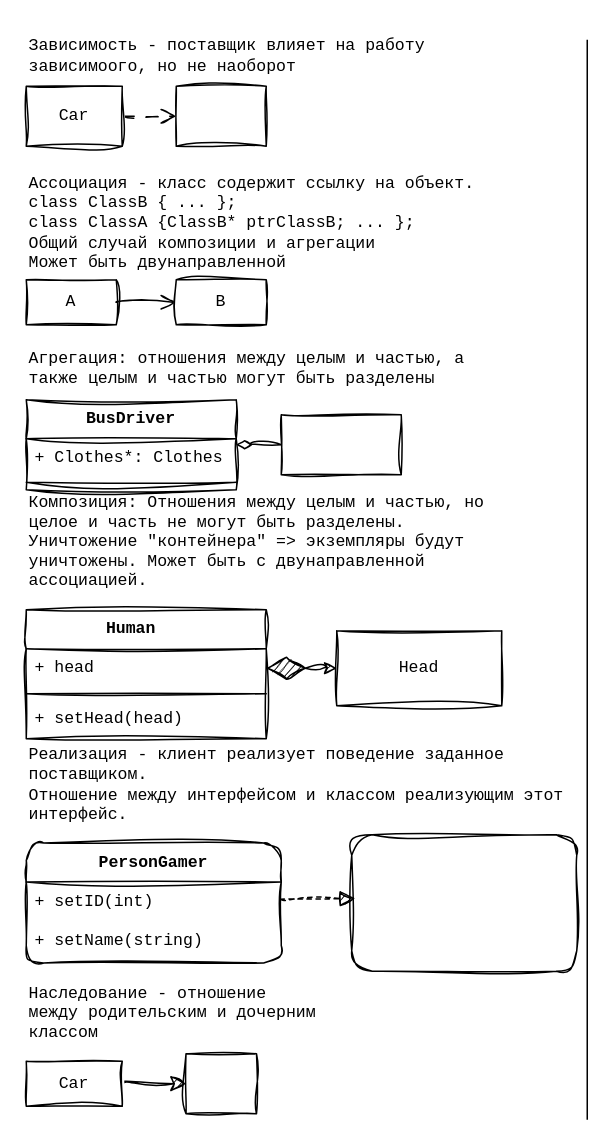
This 615x1148 diagram has some shape labels left out. The box of each missing label's shape, as (x1, y1, x2, y2) in pixels:
<<Interface>> Gamer + name: String + id: int: (350, 833, 577, 971)
Clothes: (280, 413, 401, 475)
Oil: (175, 85, 266, 146)
Taxi: (184, 1052, 256, 1114)
